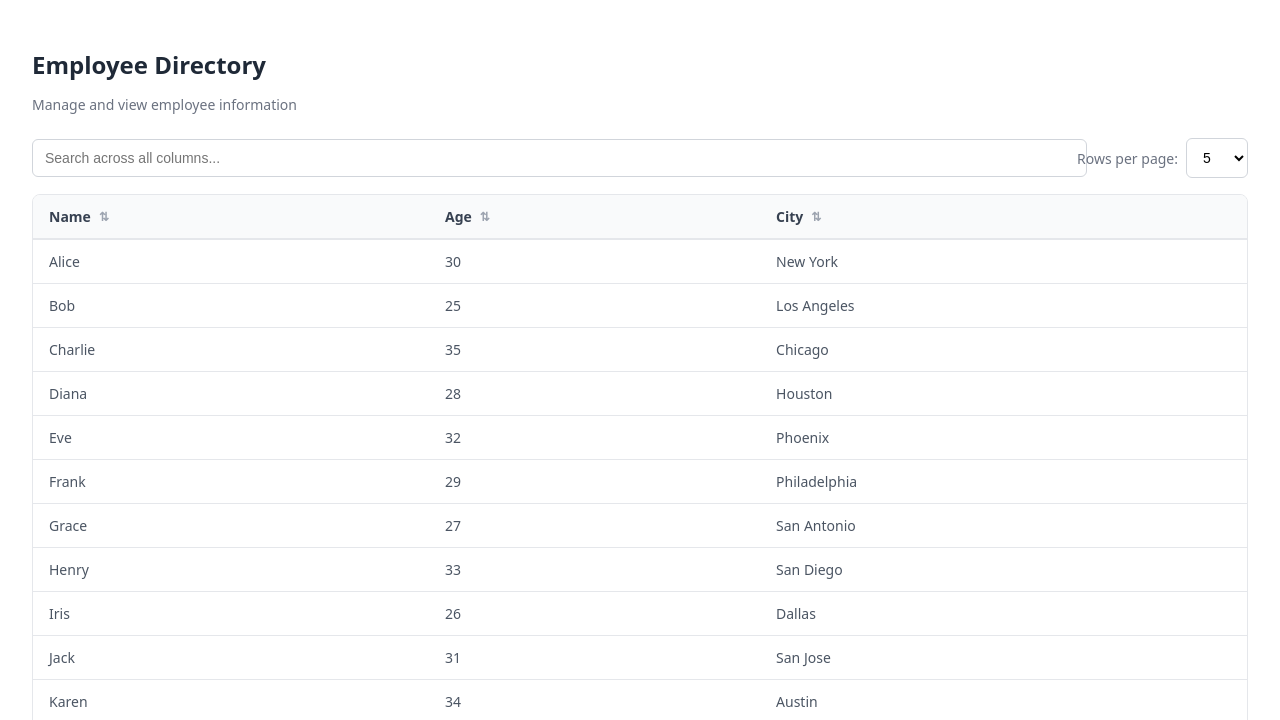
Scenario: DataTable Component › Filtering › displays filter count in page info
The image size is (1280, 720).
Type "a" into the field with test id "filter-input" at (560, 158), box left=32, top=139, right=1087, bottom=177
(page scrolled)
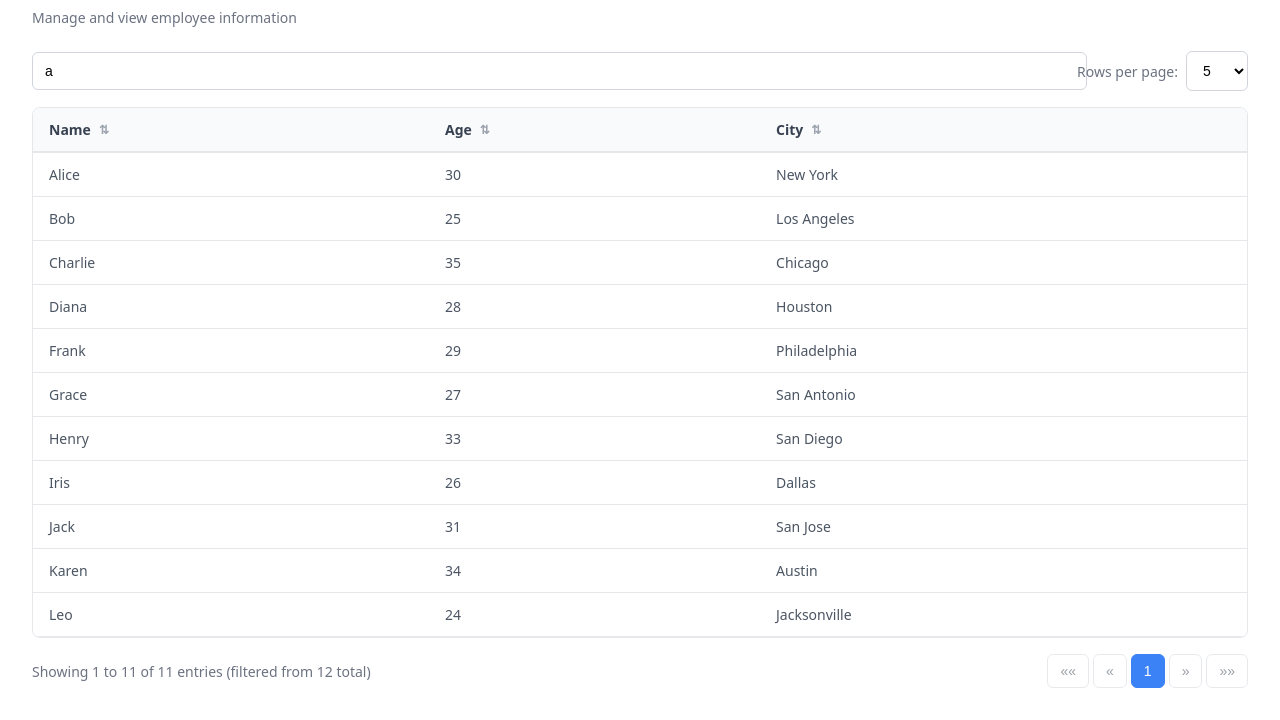
Expected: the text with test id "page-info" shows "filtered from 12 total", left=223, top=662, right=371, bottom=681
